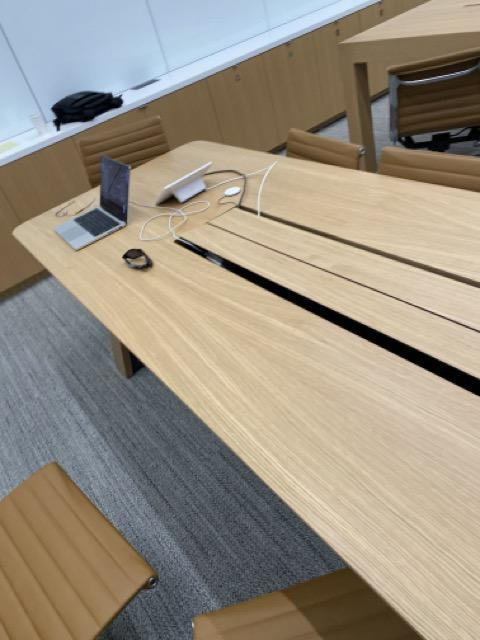Sunglasses: (122, 246, 155, 272)
